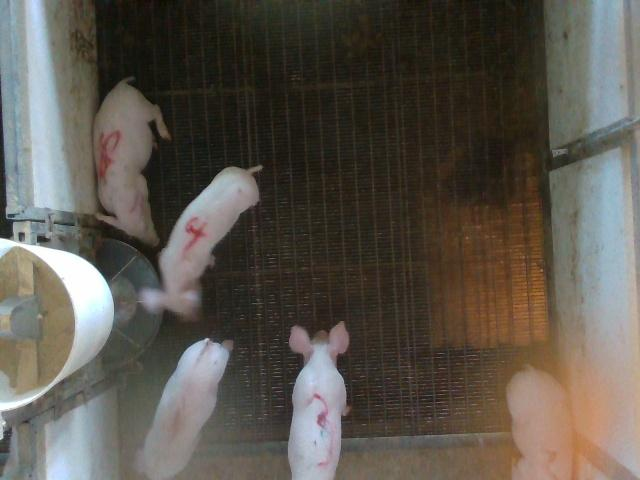pig-1: (136, 339, 231, 479)
pig-3: (288, 322, 349, 479)
pig-4: (140, 166, 262, 320)
pig-5: (94, 78, 171, 246)
